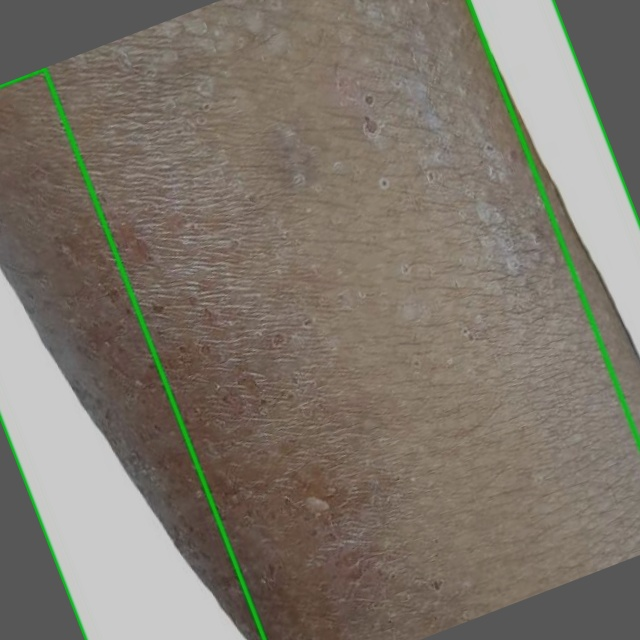Atopic Dermatitis: (0, 68, 264, 639)
